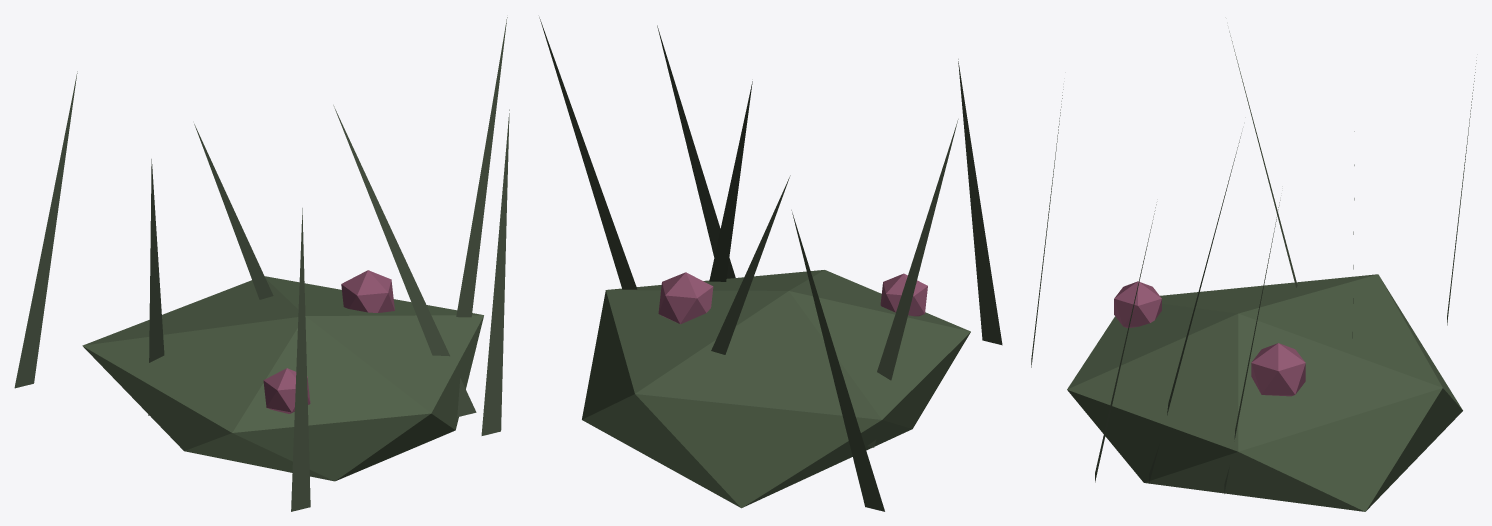
File: scrub.glb
The picture shows the model from 3 angles, left to right: view 1: azimuth 30°, elevation 25°; view 2: azimuth 150°, elevation 25°; view 3: azimuth 270°, elevation 25°; orthographic projection. The views are drawn at different scales.
Parts seen in each view (by area): view 1: scrub; view 2: scrub; view 3: scrub.
Part boxes in pixels (left/top/right/bottom): scrub: left=14, top=17, right=509, bottom=511; scrub: left=539, top=17, right=1002, bottom=511; scrub: left=1031, top=31, right=1476, bottom=511.
Size of the model in its own units: 1.27 by 1.11 by 1.11.
